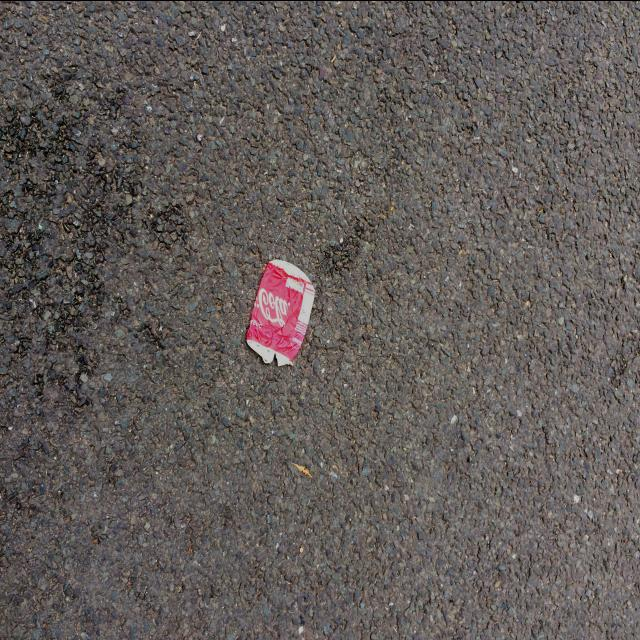Drink can: (246, 258, 316, 365)
